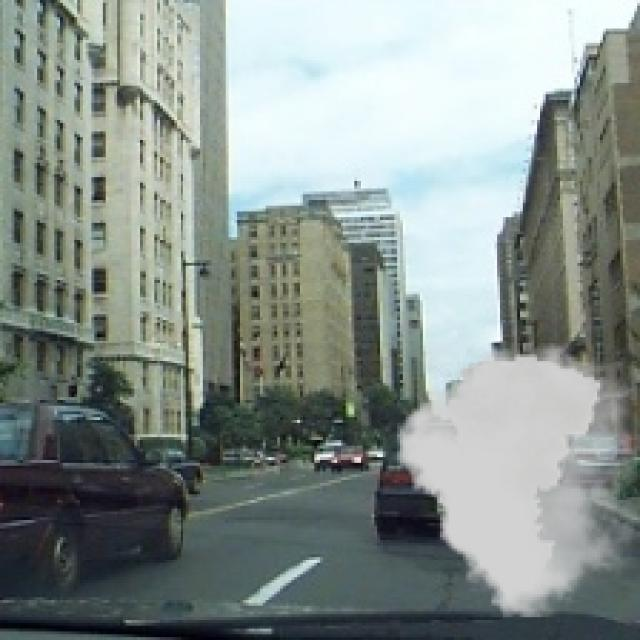smoke: (397, 343, 637, 617)
